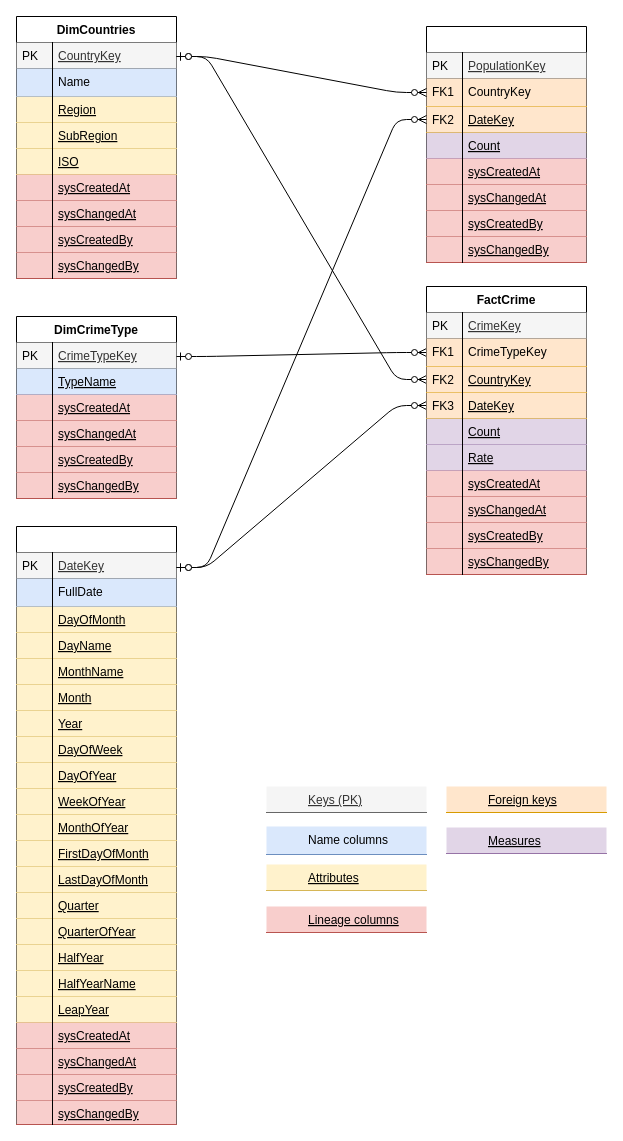
Image size: 623x1141. Some labels were removed from this diagram. Each missing label, with the box of its shape:
DimDate: (16, 526, 176, 1124)
FactPopulation: (426, 26, 586, 262)
